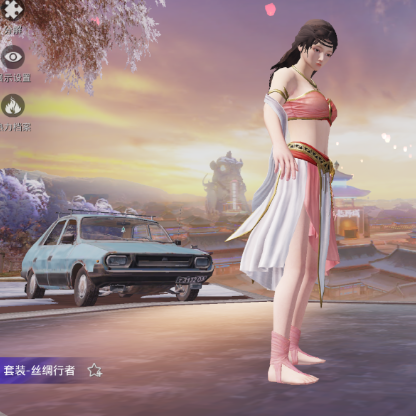ren: (255, 17, 340, 383)
tou: (294, 18, 337, 75)
